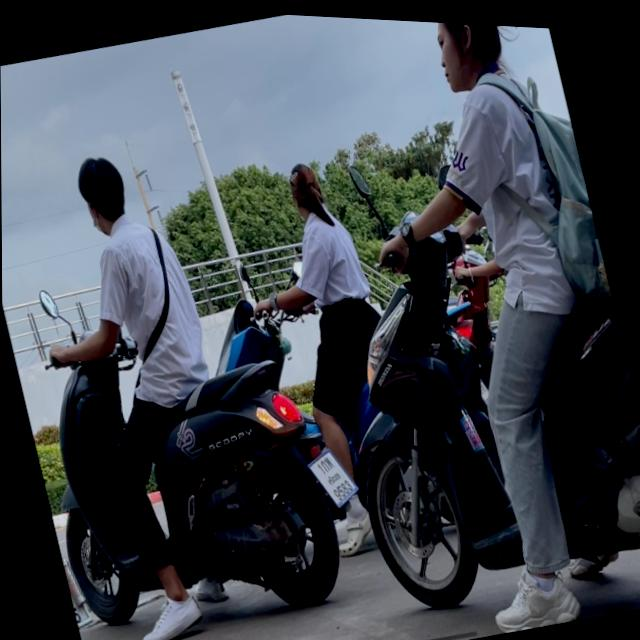seatbelt: (423, 17, 523, 94), (69, 147, 137, 241), (282, 151, 331, 220)
